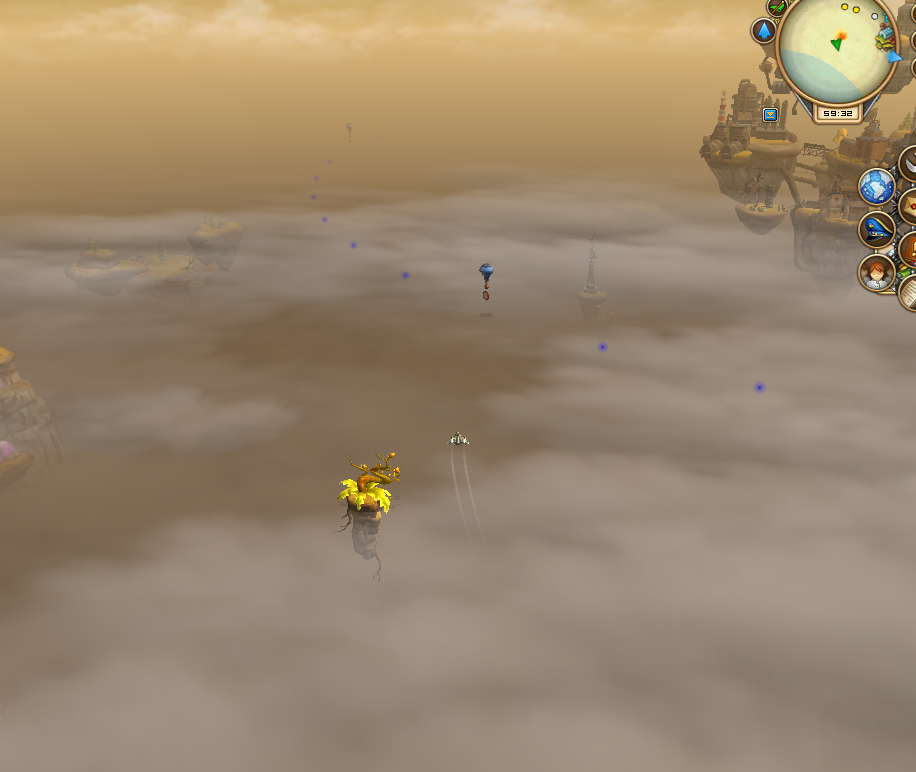dandelion-empty: (333, 446, 406, 573)
